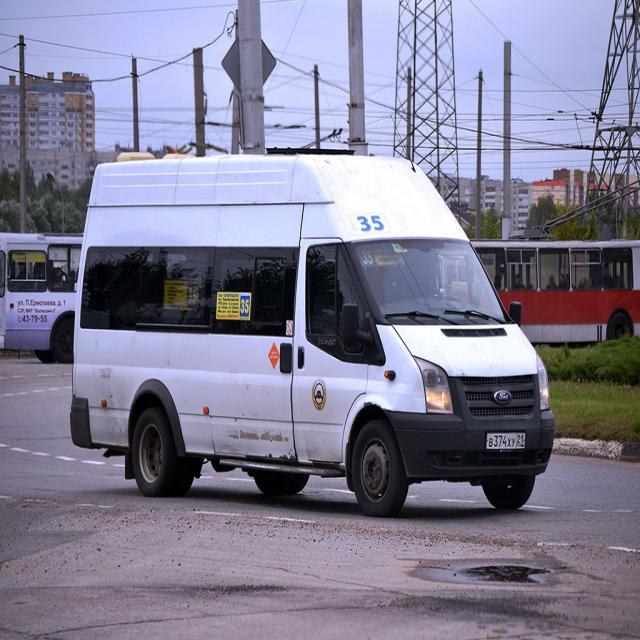number-of-bus: (356, 210, 389, 236), (360, 247, 376, 269), (241, 299, 250, 318)
